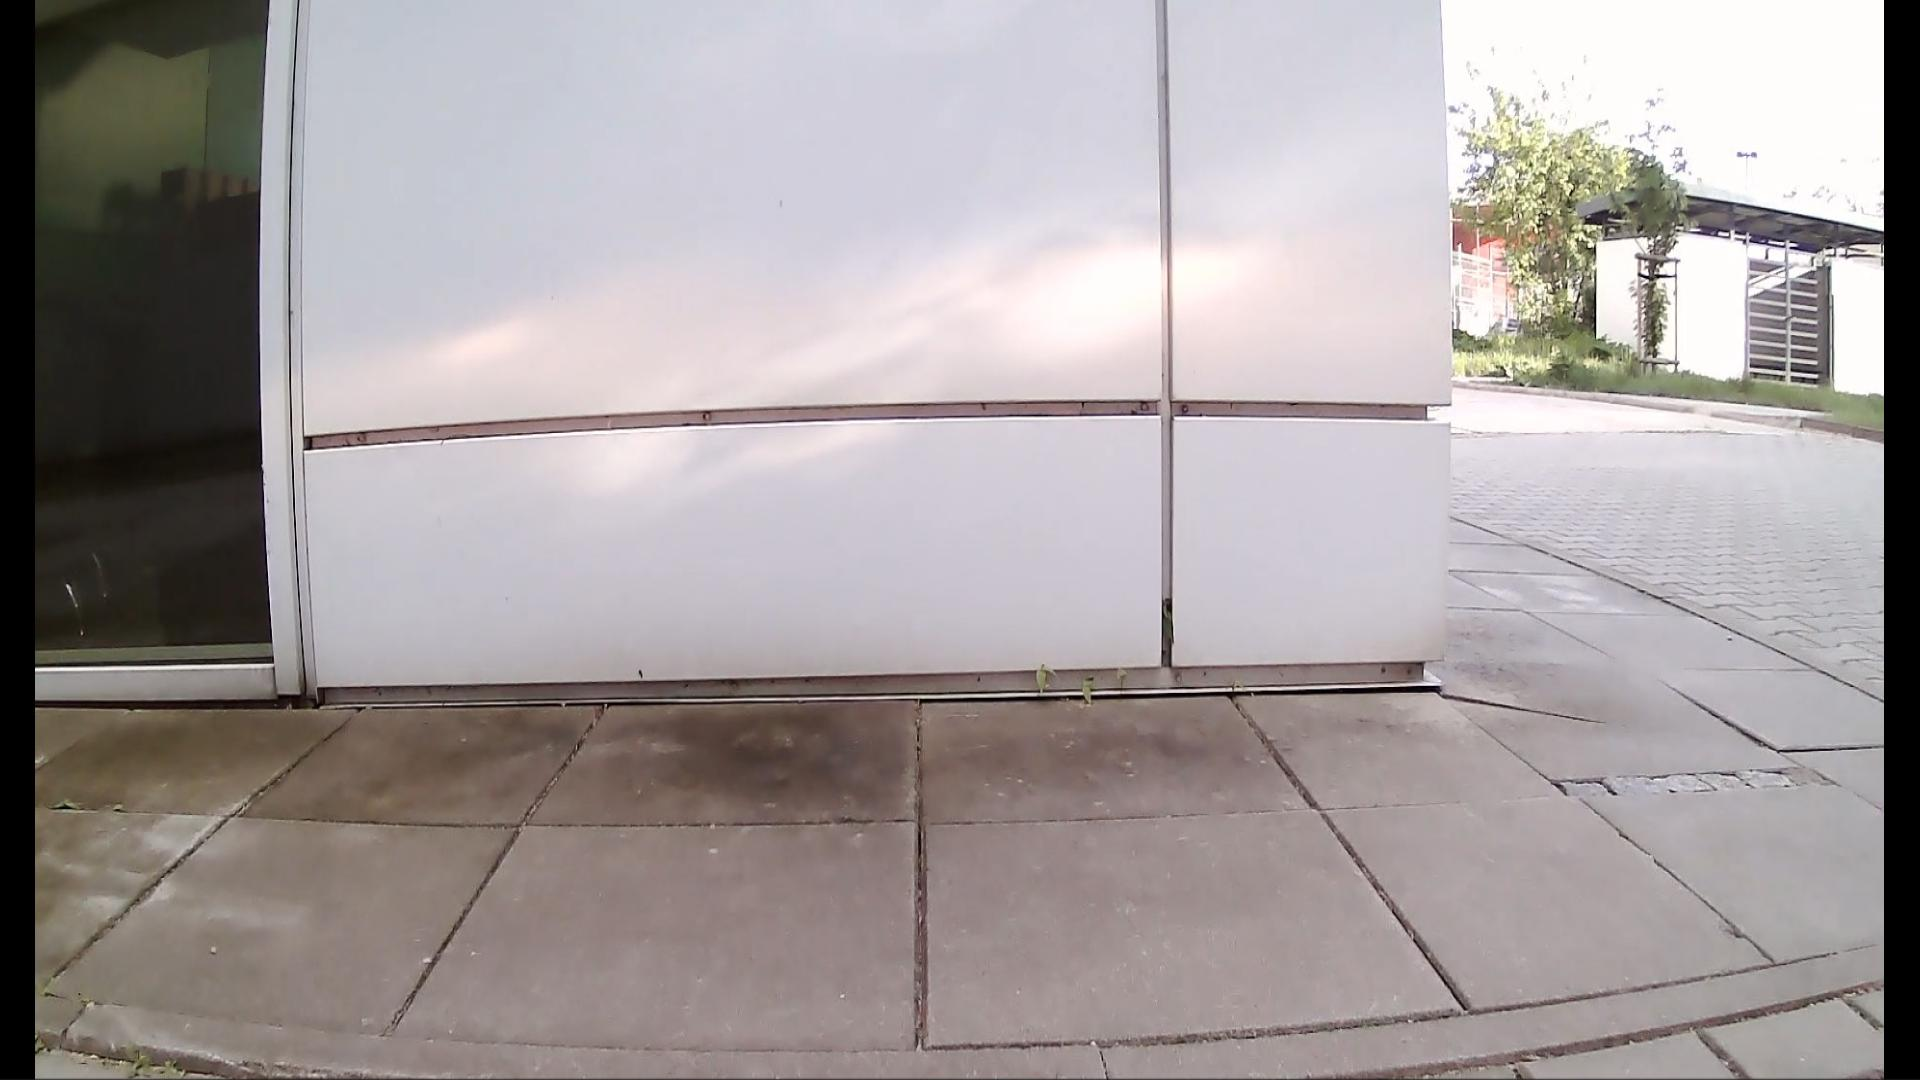wall: (310, 58, 1431, 650)
